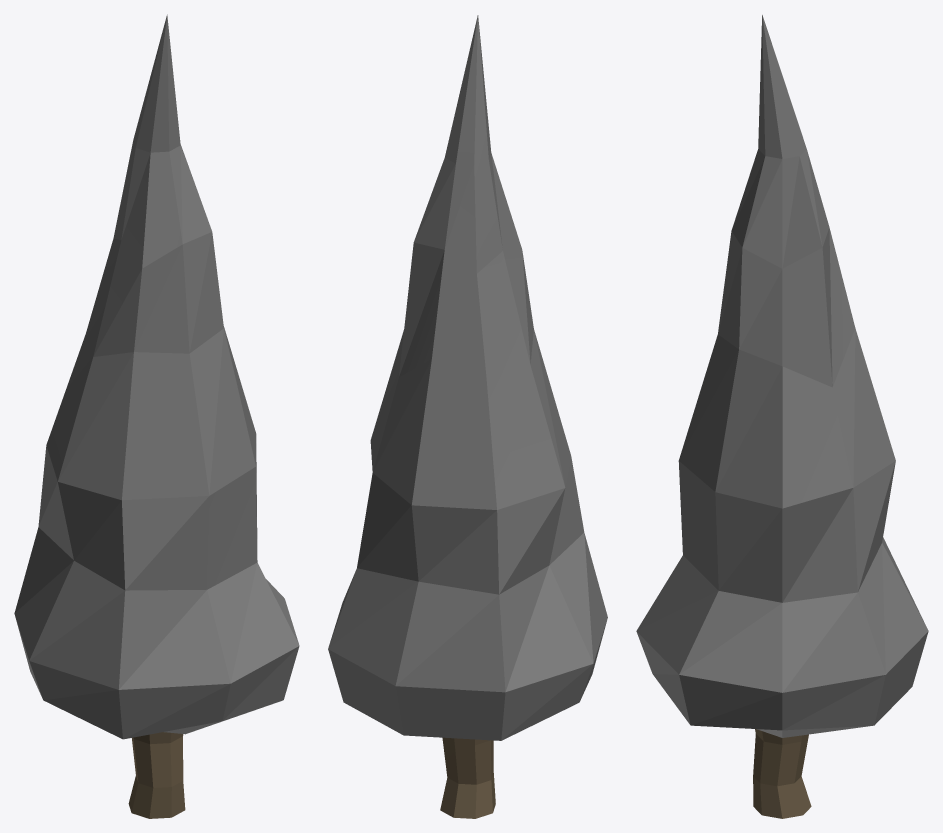
Rendered from Spruce_A.fbx.
The picture shows the model from 3 angles, left to right: view 1: azimuth 30°, elevation 25°; view 2: azimuth 150°, elevation 25°; view 3: azimuth 270°, elevation 25°; orthographic projection.
Visible parts, largest first — view 1: Spruce_A; view 2: Spruce_A; view 3: Spruce_A.
Part boxes in pixels (x1,y1,x2,y2): Spruce_A: (14, 14, 299, 818); Spruce_A: (328, 15, 607, 818); Spruce_A: (636, 15, 928, 818).
Bounding box in the file's own units: 122 × 365 × 122.
